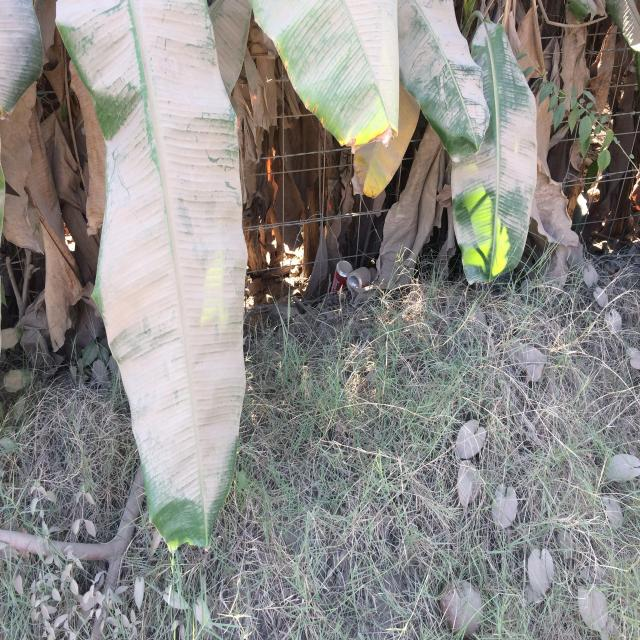litter: (322, 243, 352, 298)
